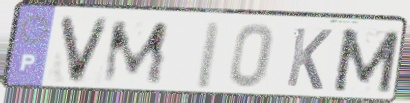0: (225, 22, 277, 92)
I: (192, 19, 225, 91)
K: (283, 24, 335, 92)
M: (330, 26, 403, 95), (99, 20, 172, 86)
V: (56, 14, 114, 87)
